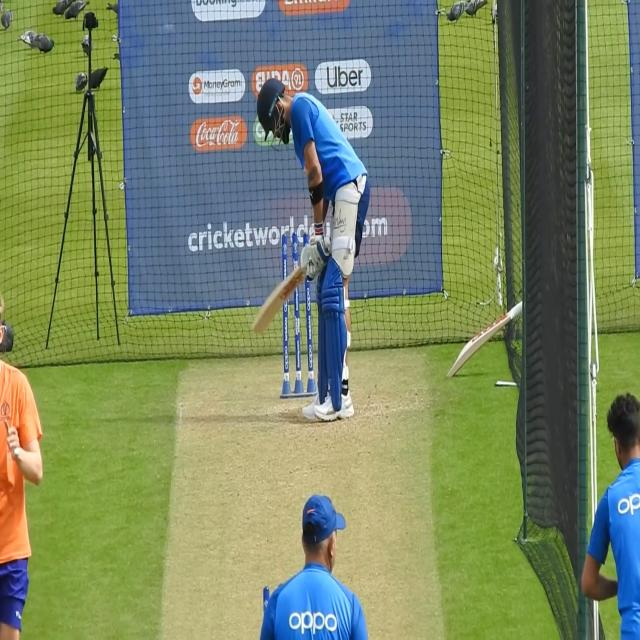stump: (281, 231, 316, 398)
